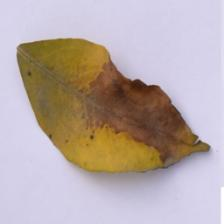black spot: (80, 47, 184, 157)
